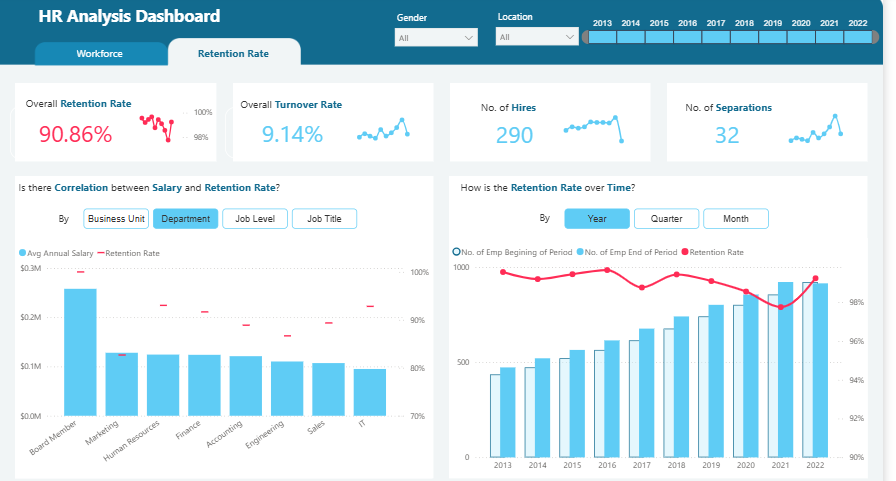

This screenshot's page, from the dashboard's own definition file:
{"tool":"powerbi","page":{"name":"Retention Rate","canvas":[1280,720],"ordinal":1},"visuals":[{"type":"shape","box":[653.8,258.7,602.6,435.2],"z":0},{"type":"shape","box":[28.9,258.7,602.6,435.2],"z":1000},{"type":"shape","box":[29.3,125.5,290.1,113],"z":2000},{"type":"card","title":"Overall Retention Rate","fields":{"Values":["Measure.Retention Rate"]},"box":[22.3,159,186.9,76.7],"z":3000},{"type":"lineStackedColumnComboChart","fields":{"Category":["DIM_Date.Year"],"Y2":["Measure.Retention Rate"]},"box":[184.1,153.4,133.9,72.5],"z":4000},{"type":"lineClusteredColumnComboChart","fields":{"Category":["DIM_Date.Year"],"Y":["Measure.No. of Emp Begining of Period","Measure.No. of Emp End of Period"],"Y2":["Measure.Retention Rate"]},"box":[653.8,348,602.6,345.9],"z":5000},{"type":"lineStackedColumnComboChart","fields":{"Category":["FACT_Employees.Department"],"Y":["Avg(FACT_Employees.Annual Salary)"],"Y2":["Measure.Retention Rate"]},"box":[28.9,349.4,601.2,344.5],"z":6000},{"type":"shape","box":[343.1,125.5,288.7,113],"z":7000},{"type":"shape","box":[655.6,125.5,288.7,113],"z":8000},{"type":"shape","box":[968,125.5,288.7,113],"z":9000},{"type":"card","title":"Overall Turnover Rate","fields":{"Values":["Measure.Turnover Rate"]},"box":[331.9,159.3,192.2,74],"z":10000},{"type":"lineChart","fields":{"Category":["DIM_Date.Year"],"Y":["Measure.Turnover Rate"]},"box":[486.8,153.4,145.1,61.4],"z":11000},{"type":"card","title":"No. of Hires","fields":{"Values":["Measure.No. of Emp Hired in Period"]},"box":[655.6,159.3,183.9,75],"z":12000},{"type":"card","title":"No. of Separations","fields":{"Values":["Measure.No. of Emp Exit in Period"]},"box":[968,159.3,171.6,75],"z":13000},{"type":"Timeline1447991079100","fields":{"Time":["DIM_Date.Date"]},"box":[839.2,22.3,440.8,65.6],"z":14000},{"type":"ChicletSlicer1448559807354","fields":{"Category":["Parameter.Parameter"]},"box":[119.8,298.8,423.4,50.4],"z":15000},{"type":"ChicletSlicer1448559807354","fields":{"Category":["Y Q M.Parameter"]},"box":[812.4,298.8,337.1,53.4],"z":16000},{"type":"lineChart","fields":{"Category":["DIM_Date.Year"],"Y2":["Measure.No. of Emp Hired in Period"]},"box":[780.8,156,163.4,62.7],"z":17000},{"type":"lineChart","fields":{"Category":["DIM_Date.Year"],"Y":["Measure.No. of Emp Exit in Period"]},"box":[1107.5,156.2,149.2,62.8],"z":18000},{"type":"textbox","box":[29.4,258.7,513.8,40.1],"z":19000},{"type":"textbox","box":[665.5,258.7,513.8,40.1],"z":20000},{"type":"textbox","box":[33.5,138.1,174.4,40.5],"z":21000},{"type":"textbox","box":[340.1,139.8,173.7,40.1],"z":22000},{"type":"textbox","box":[652.5,143.9,173.7,40.1],"z":23000},{"type":"textbox","box":[969.4,143.7,174.4,40.5],"z":24000},{"type":"actionButton","box":[101.1,62.2,99.9,40],"z":25000},{"type":"actionButton","box":[264.3,62.2,156.6,40],"z":26000},{"type":"slicer","fields":{"Values":["FACT_Employees.Gender"]},"box":[566.2,16.7,138.6,71.8],"z":27000},{"type":"textbox","box":[57.2,5.6,344.5,58.6],"z":28000},{"type":"textbox","box":[779.6,303.6,42.5,35],"z":29000},{"type":"textbox","box":[85.8,304.9,46.2,35],"z":30000},{"type":"slicer","fields":{"Values":["FACT_Employees.Country","FACT_Employees.City"]},"box":[711.1,16.1,138.8,71.4],"z":31000}]}

Visuals, with their boxes on the page's 1280x720 design canvas (x1, y1, x2, y2). These are canvas units, not pixel positions in the 896x481 screenshot, which may show the page scaled, cropped or inside an application window:
shape: (654, 259, 1256, 694)
shape: (29, 259, 632, 694)
shape: (29, 126, 319, 238)
"Overall Retention Rate" card: (22, 159, 209, 236)
lineStackedColumnComboChart - DIM_Date.Year x Measure.Retention Rate: (184, 153, 318, 226)
lineClusteredColumnComboChart - DIM_Date.Year x Measure.No. of Emp Begining of Period: (654, 348, 1256, 694)
lineStackedColumnComboChart - FACT_Employees.Department x Avg(FACT_Employees.Annual Salary): (29, 349, 630, 694)
shape: (343, 126, 632, 238)
shape: (656, 126, 944, 238)
shape: (968, 126, 1257, 238)
"Overall Turnover Rate" card: (332, 159, 524, 233)
lineChart - DIM_Date.Year x Measure.Turnover Rate: (487, 153, 632, 215)
"No. of Hires" card: (656, 159, 840, 234)
"No. of Separations" card: (968, 159, 1140, 234)
Timeline1447991079100 - DIM_Date.Date: (839, 22, 1280, 88)
ChicletSlicer1448559807354 - Parameter.Parameter: (120, 299, 543, 349)
ChicletSlicer1448559807354 - Y Q M.Parameter: (812, 299, 1150, 352)
lineChart - DIM_Date.Year x Measure.No. of Emp Hired in Period: (781, 156, 944, 219)
lineChart - DIM_Date.Year x Measure.No. of Emp Exit in Period: (1108, 156, 1257, 219)
textbox: (29, 259, 543, 299)
textbox: (666, 259, 1179, 299)
textbox: (34, 138, 208, 179)
textbox: (340, 140, 514, 180)
textbox: (652, 144, 826, 184)
textbox: (969, 144, 1144, 184)
actionButton: (101, 62, 201, 102)
actionButton: (264, 62, 421, 102)
slicer - FACT_Employees.Gender: (566, 17, 705, 88)
textbox: (57, 6, 402, 64)
textbox: (780, 304, 822, 339)
textbox: (86, 305, 132, 340)
slicer - FACT_Employees.Country x FACT_Employees.City: (711, 16, 850, 88)
